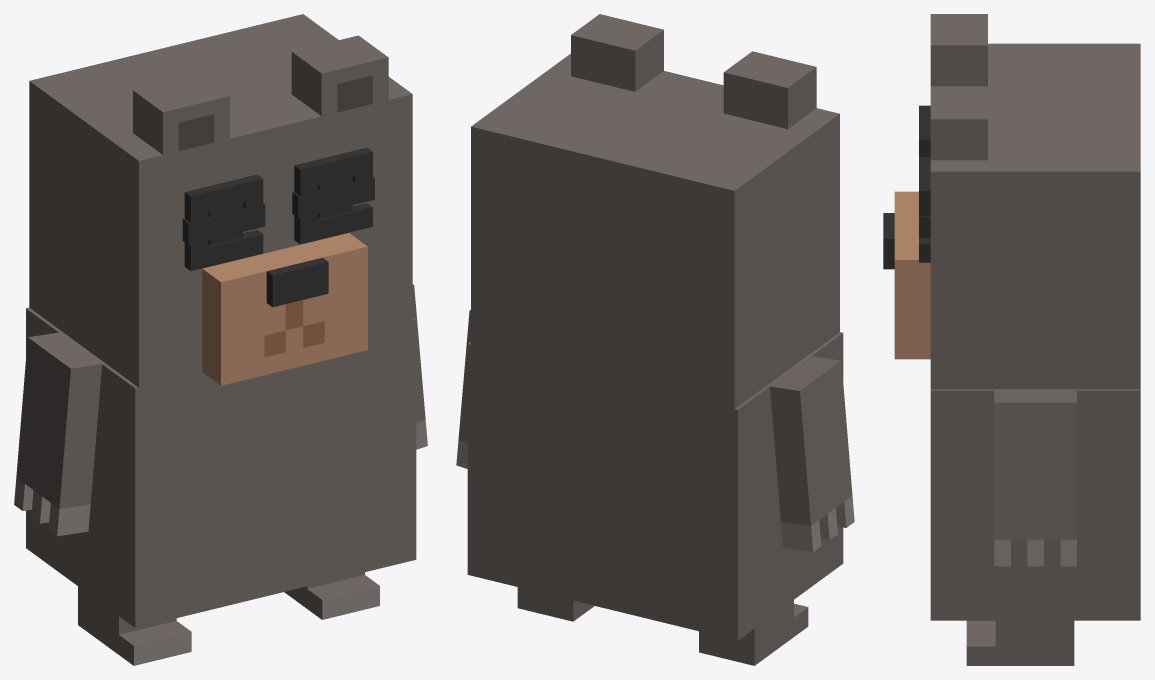
3 renders of one model, left to right at view 1: azimuth 30°, elevation 25°; view 2: azimuth 150°, elevation 25°; view 3: azimuth 270°, elevation 25°, orthographic. The views are drawn at different scales.
Parts seen in each view (by area): view 1: Ch_09_Head, Ch_09, Ch_09_Hand_L, Ch_09_Leg_L, Ch_09_Eye_03_L, Ch_09_Eye_03_R, Ch_09_Eye_02, Ch_09_Leg_R, Ch_09_Hand_R, Ch_09_Eye_01; view 2: Ch_09_Head, Ch_09, Ch_09_Hand_L, Ch_09_Leg_L, Ch_09_Leg_R, Ch_09_Hand_R; view 3: Ch_09_Head, Ch_09, Ch_09_Hand_R, Ch_09_Leg_R, Ch_09_Eye_03_R, Ch_09_Eye_03_L.
Boxes of the visible parts, left/top/right/bottom form: Ch_09_Head: left=29, top=14, right=412, bottom=387; Ch_09: left=26, top=307, right=416, bottom=628; Ch_09_Hand_L: left=14, top=332, right=101, bottom=536; Ch_09_Leg_L: left=78, top=586, right=191, bottom=665; Ch_09_Eye_03_L: left=184, top=174, right=263, bottom=270; Ch_09_Eye_03_R: left=294, top=147, right=372, bottom=244; Ch_09_Eye_02: left=182, top=177, right=374, bottom=244; Ch_09_Leg_R: left=284, top=572, right=379, bottom=619; Ch_09_Hand_R: left=412, top=284, right=427, bottom=449; Ch_09_Eye_01: left=208, top=176, right=352, bottom=245; Ch_09_Head: left=471, top=14, right=839, bottom=408; Ch_09: left=467, top=332, right=843, bottom=640; Ch_09_Hand_L: left=770, top=356, right=854, bottom=552; Ch_09_Leg_L: left=699, top=600, right=808, bottom=665; Ch_09_Leg_R: left=517, top=587, right=594, bottom=621; Ch_09_Hand_R: left=456, top=309, right=470, bottom=468; Ch_09_Head: left=883, top=14, right=1140, bottom=389; Ch_09: left=930, top=389, right=1140, bottom=620; Ch_09_Hand_R: left=994, top=390, right=1076, bottom=566; Ch_09_Leg_R: left=966, top=620, right=1074, bottom=665; Ch_09_Eye_03_R: left=919, top=157, right=930, bottom=262; Ch_09_Eye_03_L: left=919, top=105, right=930, bottom=156.
Size of the model in its own units: 8.52 by 12.41 by 5.34.
